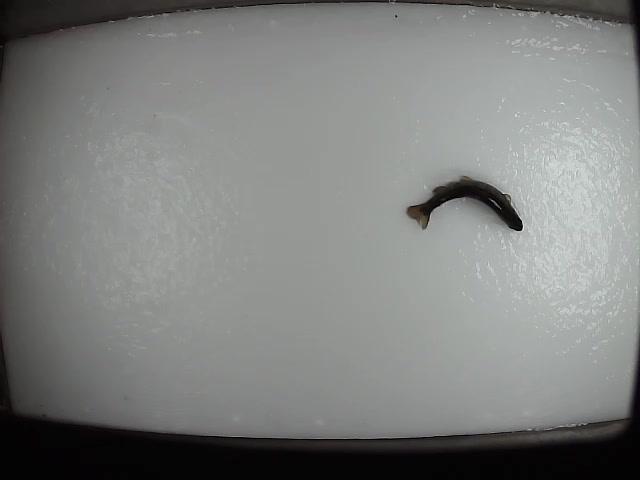Fish: (407, 175, 523, 231)
